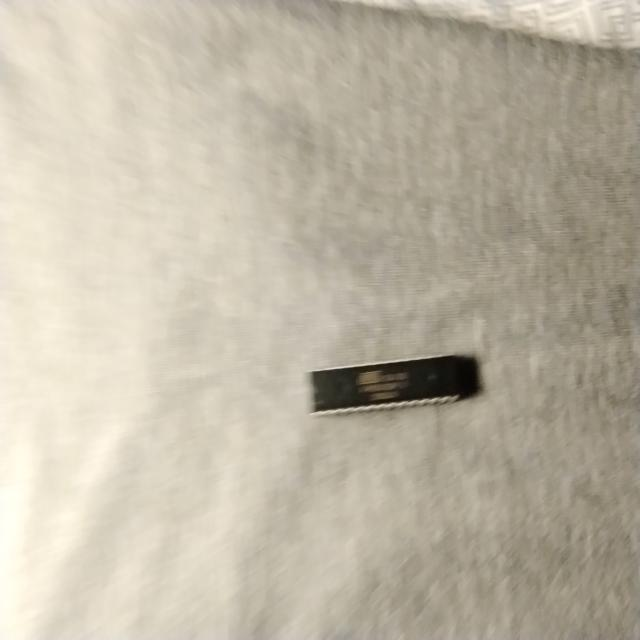atmega: (304, 350, 484, 420)
